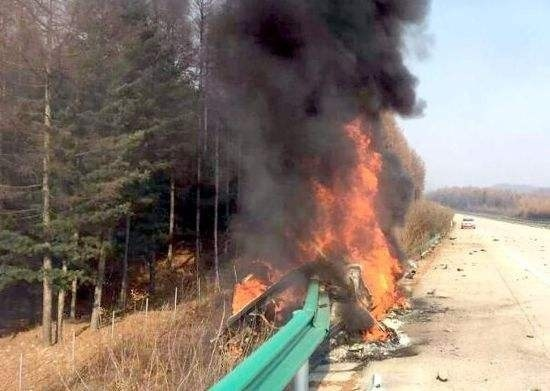fire: (230, 117, 411, 341)
